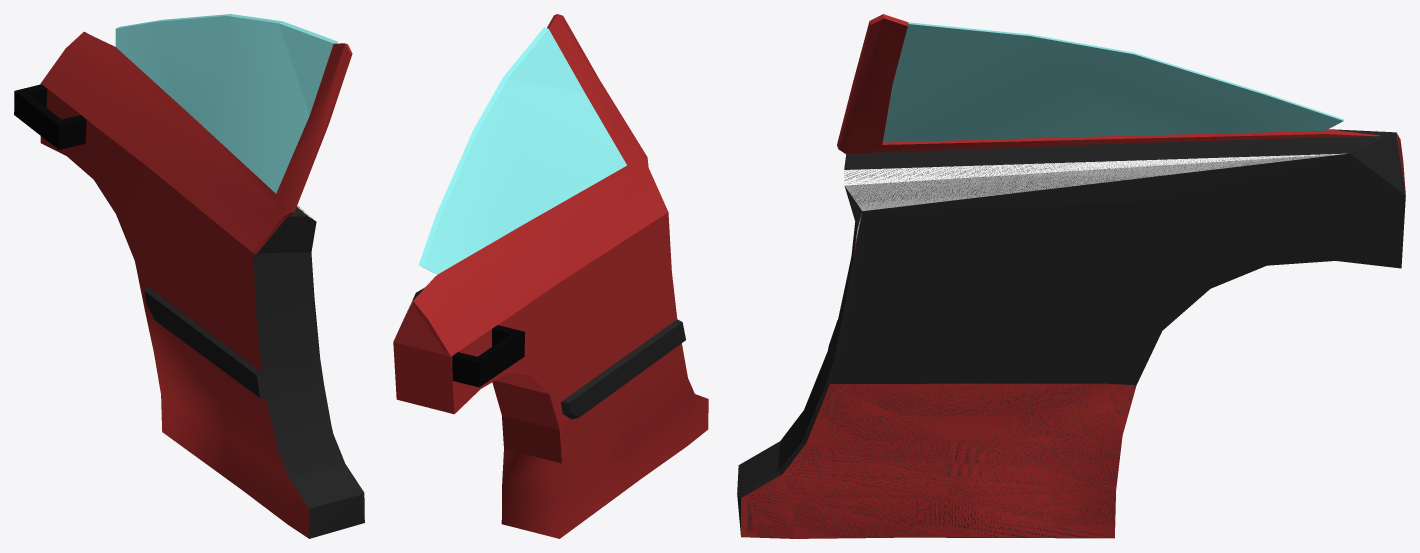
File: CarDoorBR.dae
3 renders of one model, left to right at view 1: azimuth 30°, elevation 25°; view 2: azimuth 150°, elevation 25°; view 3: azimuth 270°, elevation 25°, orthographic. The views are drawn at different scales.
Parts seen in each view (by area): view 1: group_0 (×4), doornob; view 2: group_0 (×4), doornob; view 3: group_0 (×5).
Boxes of the visible parts, x1=… form: group_0 (×4): x1=40, y1=14, x2=364, y2=538; doornob: x1=14, y1=84, x2=86, y2=149; group_0 (×4): x1=393, y1=14, x2=708, y2=538; doornob: x1=452, y1=325, x2=524, y2=387; group_0 (×5): x1=737, y1=14, x2=1405, y2=538.
Bounding box in the file's own units: 13.14 × 46.16 × 41.84.
